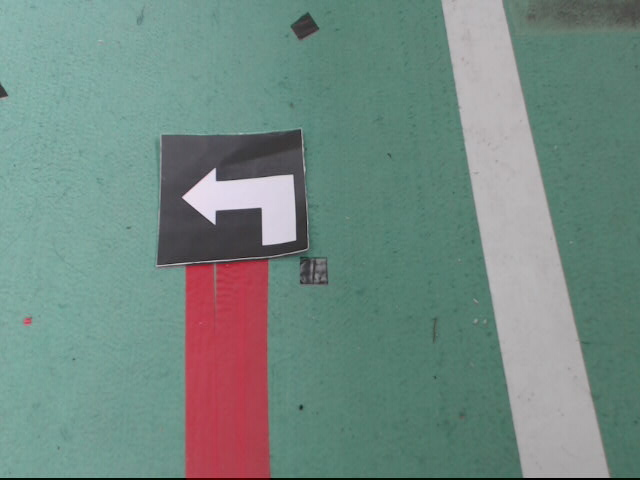left: (159, 130, 312, 266)
